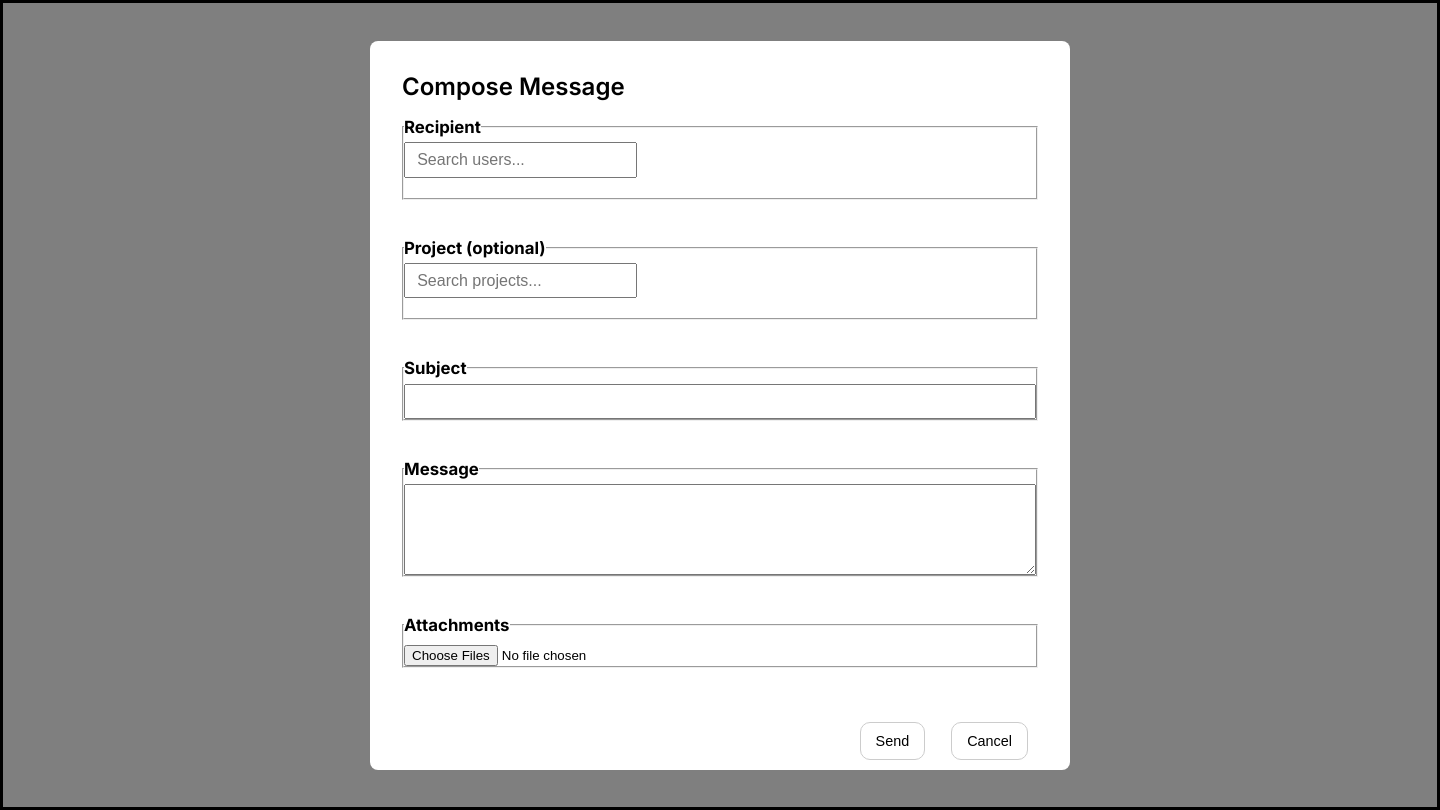
Scenario: ComposeMessage › shows and selects project search results
The width and height of the screenshot is (1440, 810).
Type "Pro" into the field with placeholder "Search projects...".
click(521, 280); type("Pro")  # box left=404, top=263, right=637, bottom=298
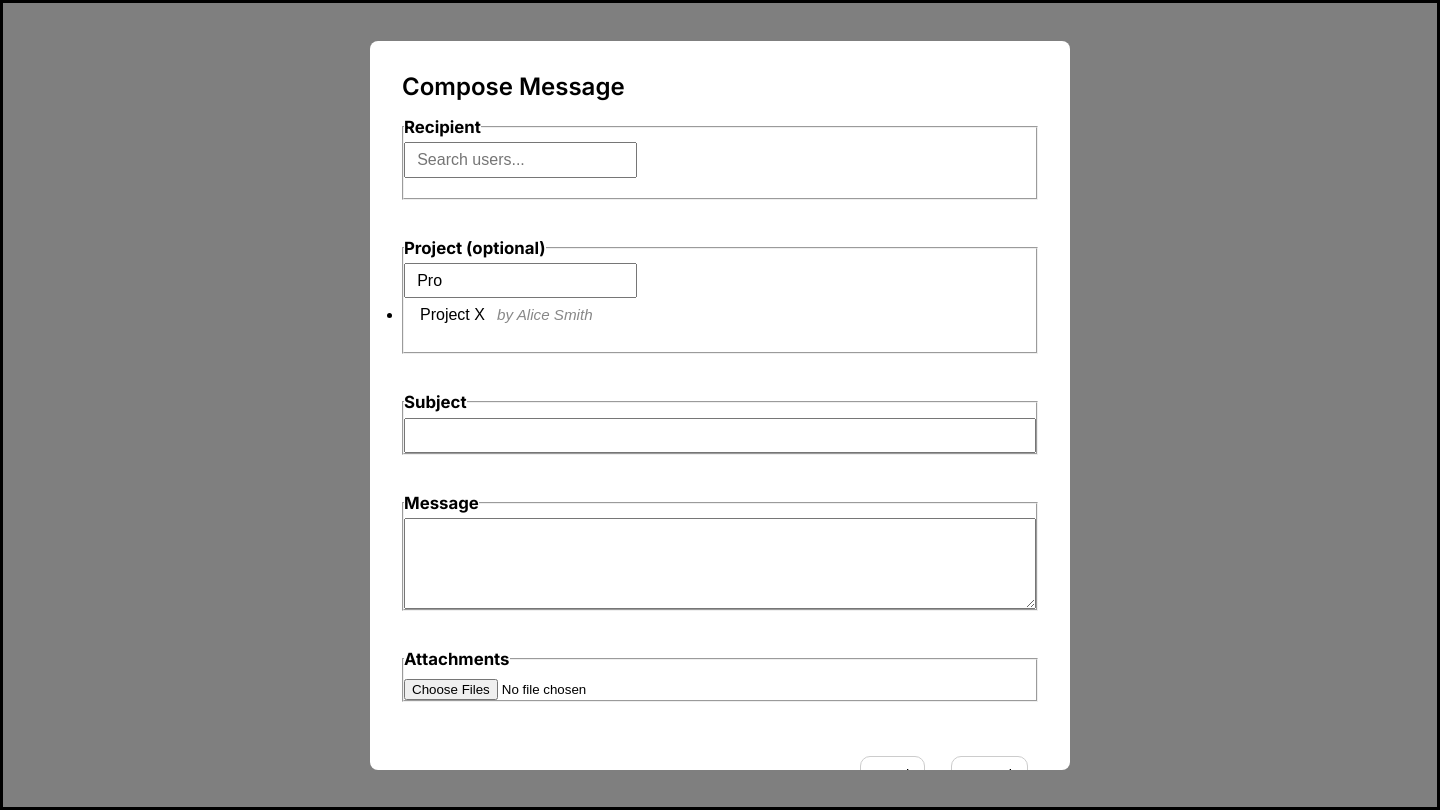
# Wait for the project button to appear
Click the button "Project X by Alice Smith".
click(452, 315)  # box left=404, top=298, right=988, bottom=332
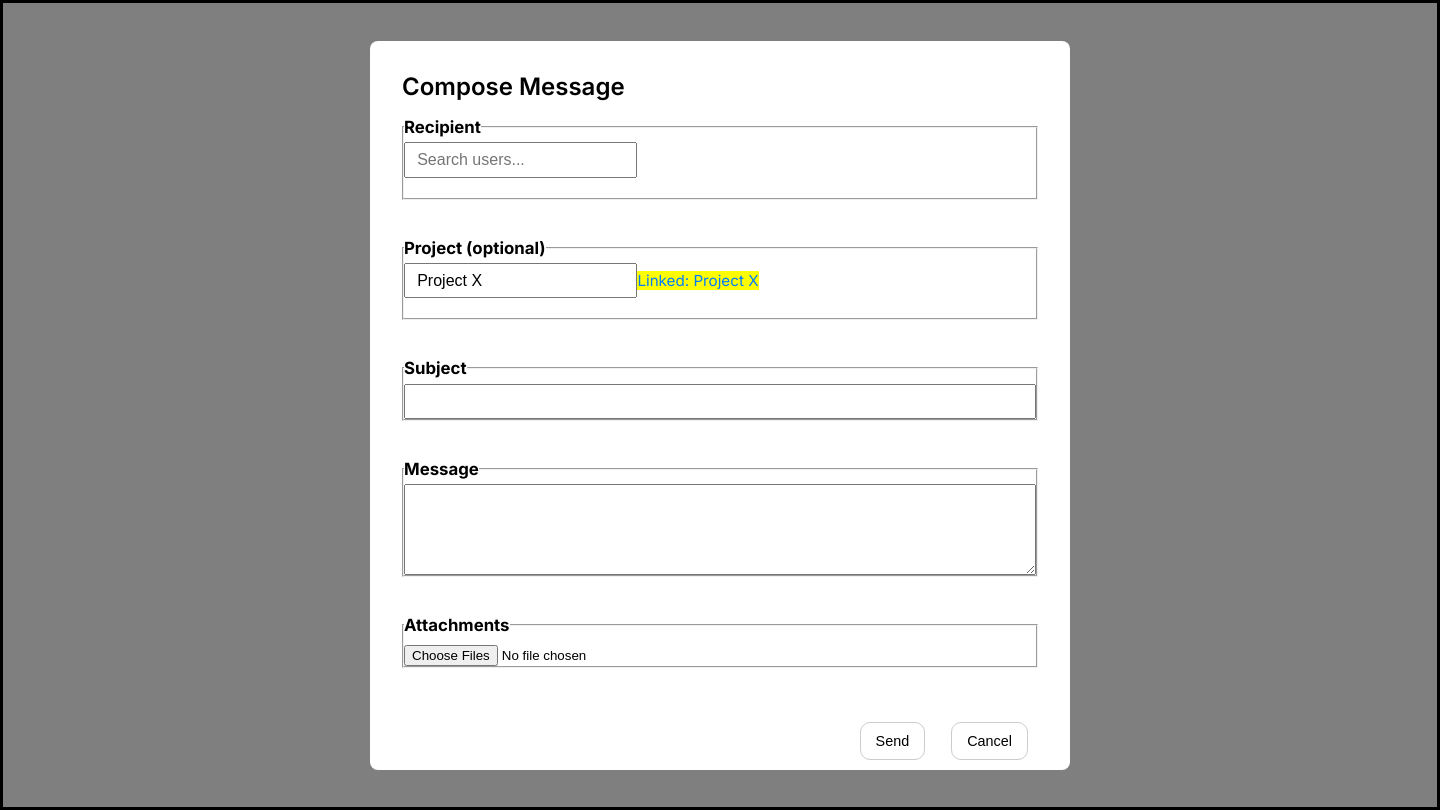
Expected: the field with placeholder "Search projects..." next to "Linked:" holds "Project X", left=404, top=263, right=637, bottom=298
Expected: the text "Linked: Project X" is shown, left=637, top=270, right=758, bottom=290
